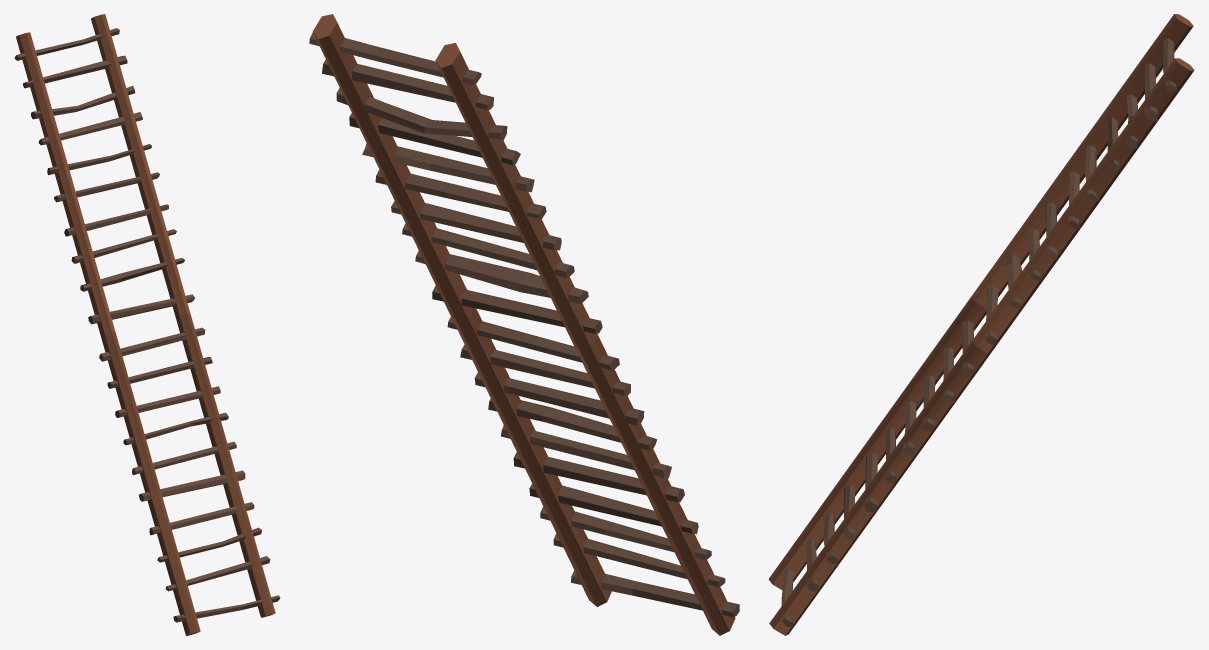
File: Wall_Ladder Asia.fbx
The picture shows the model from 3 angles, left to right: view 1: azimuth 30°, elevation 25°; view 2: azimuth 150°, elevation 25°; view 3: azimuth 270°, elevation 25°; orthographic projection. The views are drawn at different scales.
Parts seen in each view (by area): view 1: Wall_Ladder; view 2: Wall_Ladder; view 3: Wall_Ladder.
Boxes of the visible parts, <box> form: Wall_Ladder: <box>14,14,280,635</box>; Wall_Ladder: <box>309,14,739,635</box>; Wall_Ladder: <box>768,14,1194,635</box>.
Bounding box in the file's own units: 1.07 × 4.83 × 3.24.
